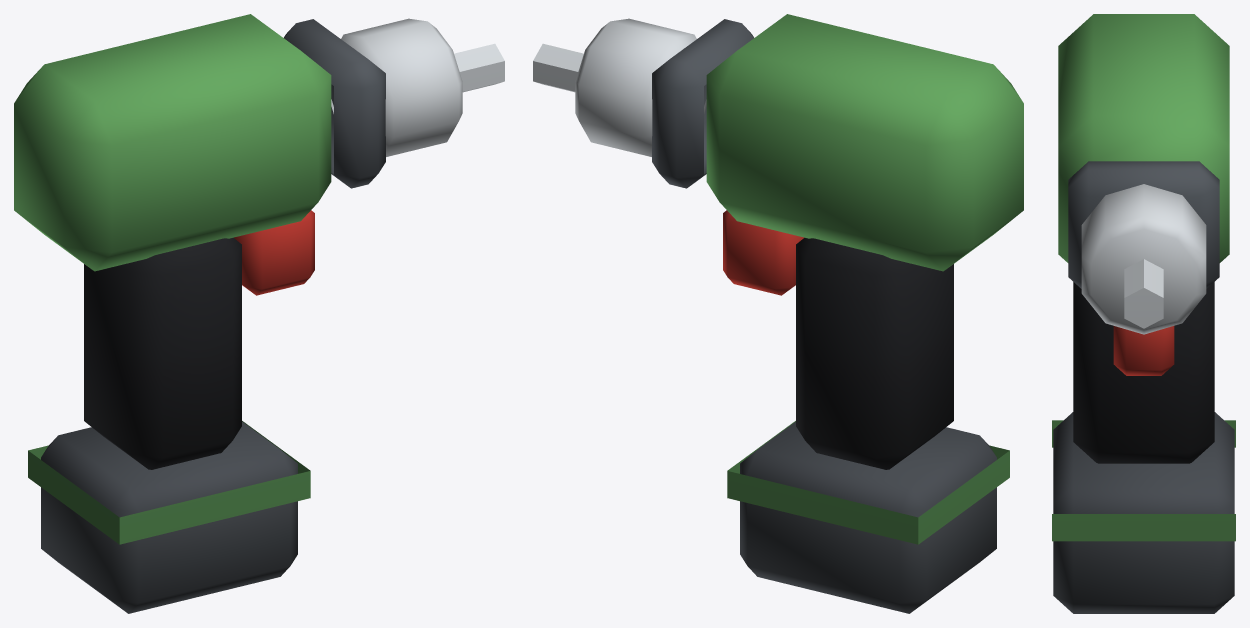
The model's file is SM_Drill_Cordless_01.glb.
The picture shows the model from 3 angles, left to right: view 1: azimuth 30°, elevation 25°; view 2: azimuth 150°, elevation 25°; view 3: azimuth 270°, elevation 25°; orthographic projection.
Parts seen in each view (by area): view 1: SM_Drill_Cordless_01; view 2: SM_Drill_Cordless_01; view 3: SM_Drill_Cordless_01.
Part boxes in pixels (<box>): SM_Drill_Cordless_01: <box>14,14,504,613</box>; SM_Drill_Cordless_01: <box>533,14,1023,613</box>; SM_Drill_Cordless_01: <box>1052,14,1235,613</box>.
Size of the model in its own units: 0.21 by 0.225 by 0.073.
Materials: 1 (1 with a texture image).
